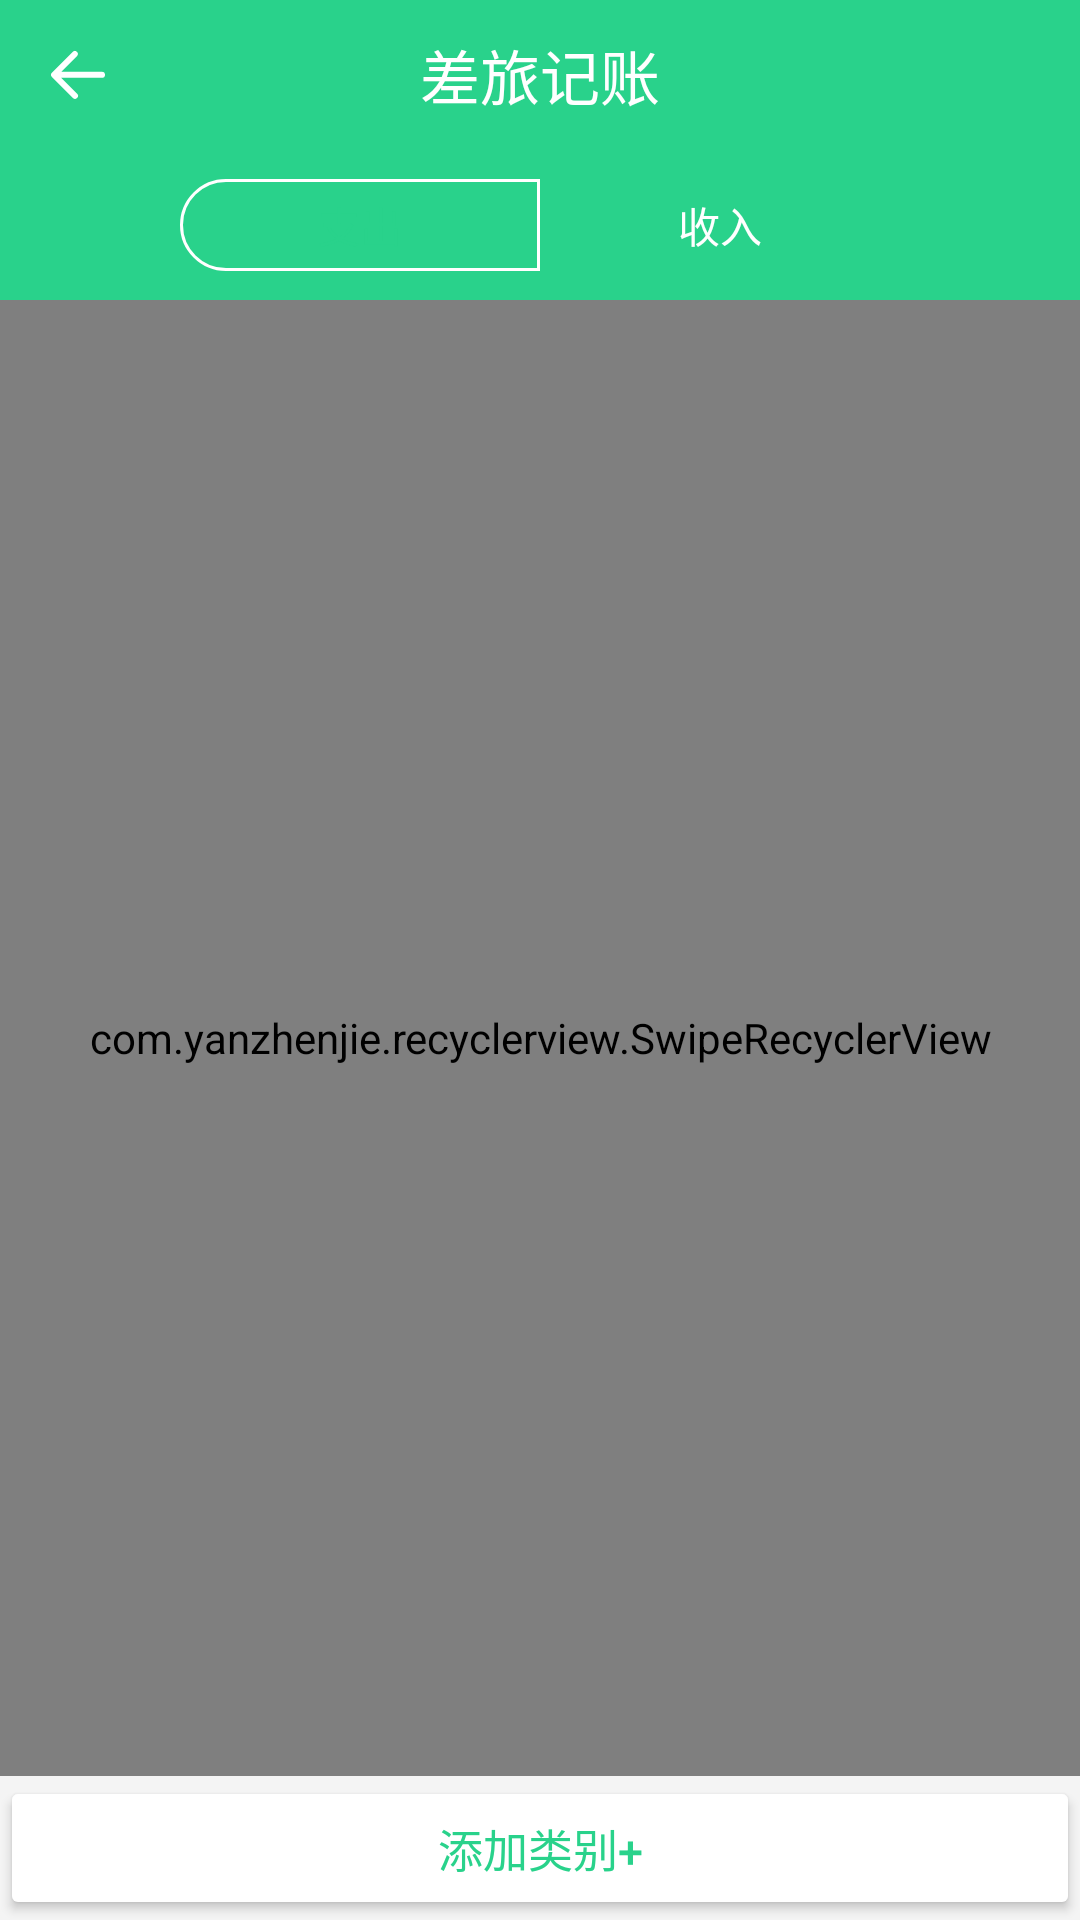

Icon click points for this 1080x1920 phone screenshot, format (x,y):
return: (78,75)
